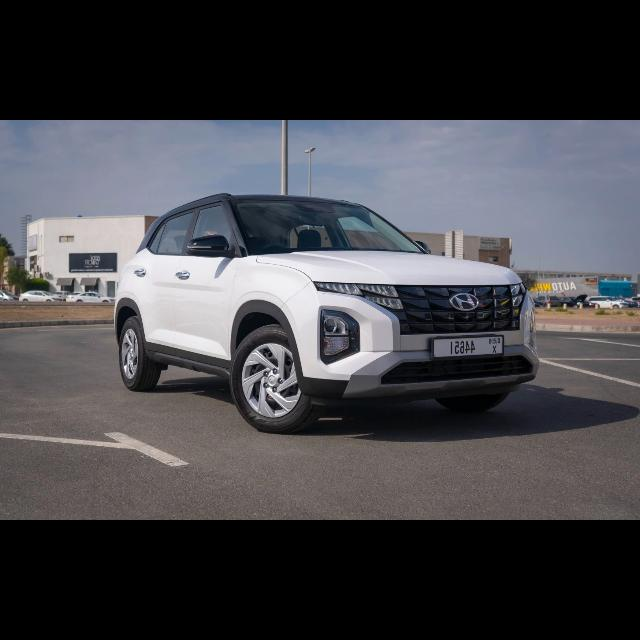vehicles: (113, 195, 533, 433)
